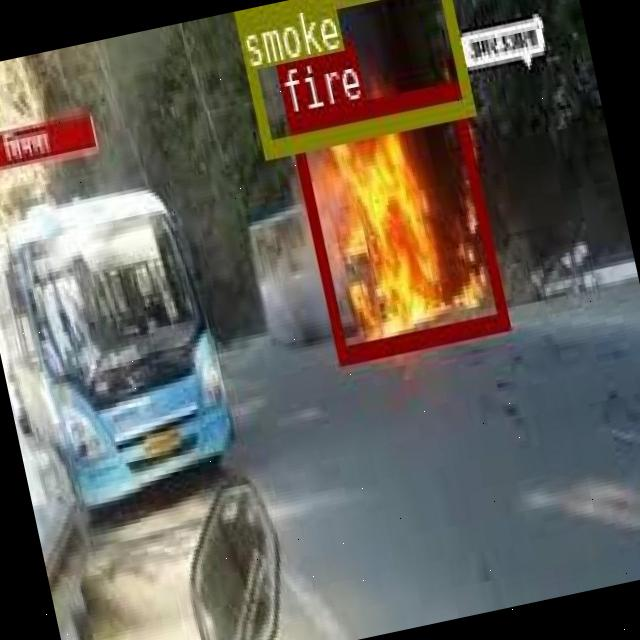fire: (284, 78, 506, 359)
smoke: (233, 0, 473, 157)
